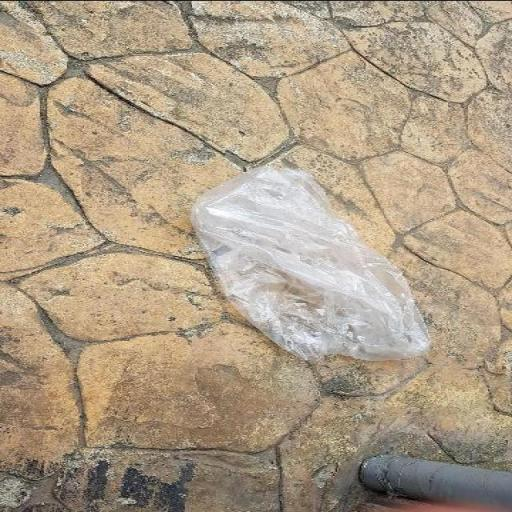plastic-bag: (181, 163, 437, 363)
